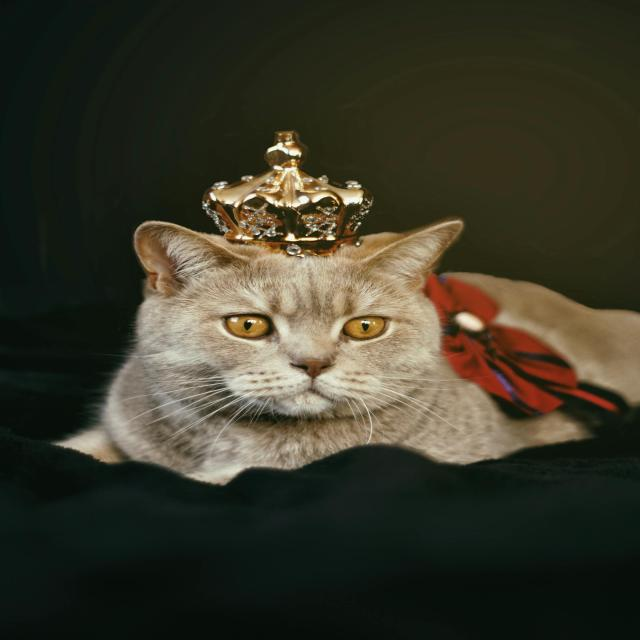Cat: (51, 215, 603, 486)
